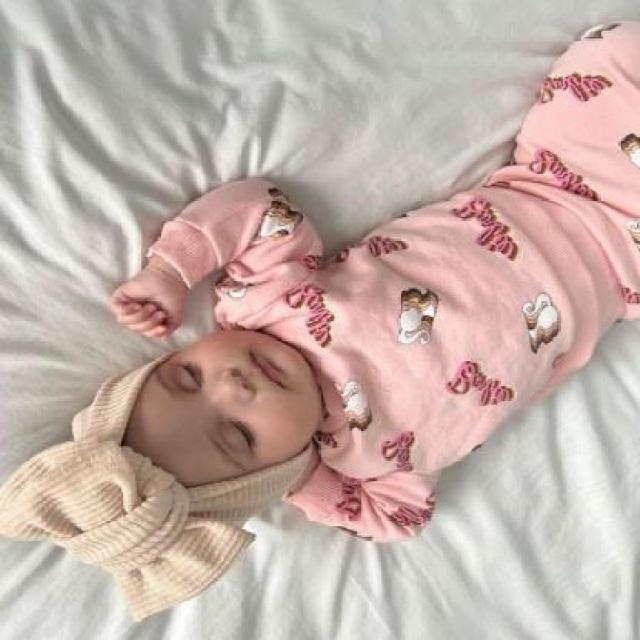baby: (0, 15, 637, 620)
